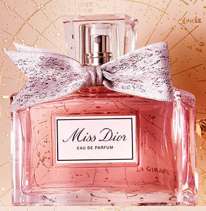dior_miss_dior: (3, 8, 198, 207)
